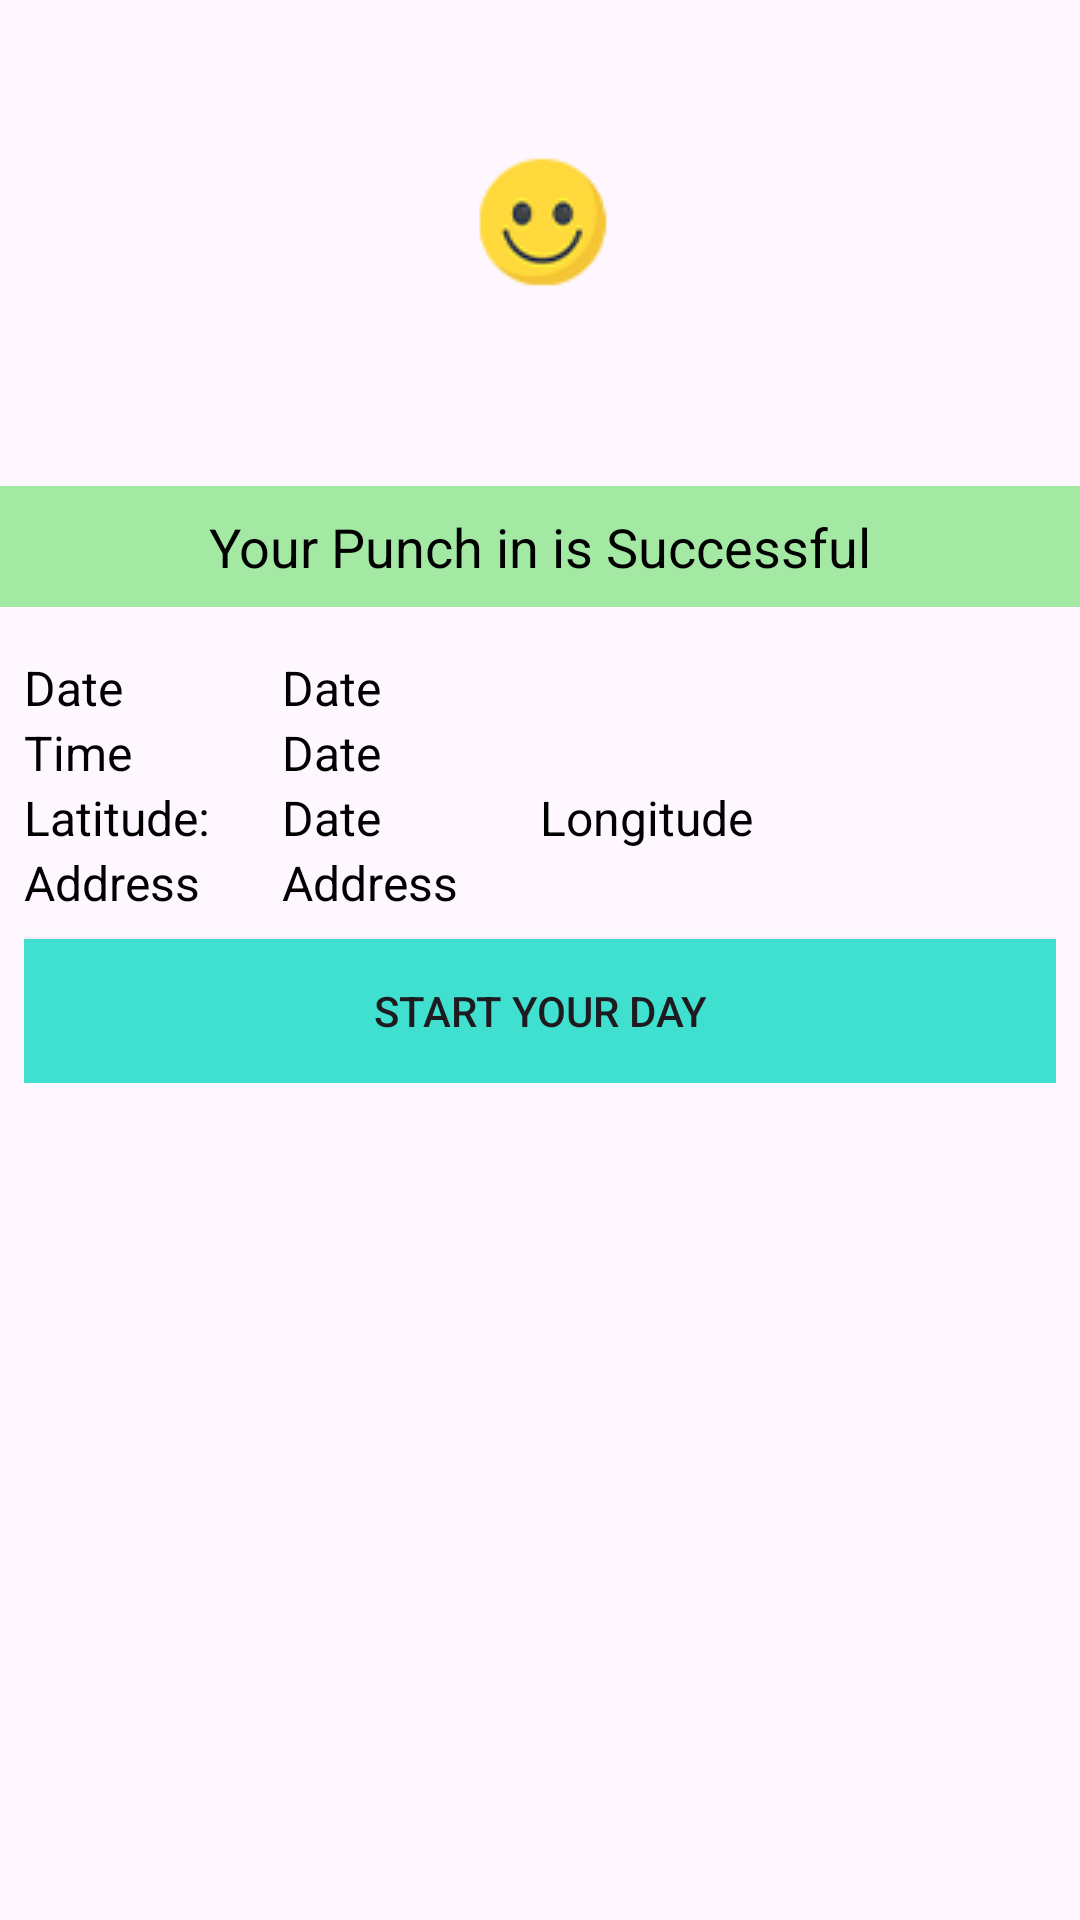

Icon bounding boxes for this 1080px×1920px phone screenshot, format (x1, y1, x2, y2):
smile: (479, 158, 607, 286)
